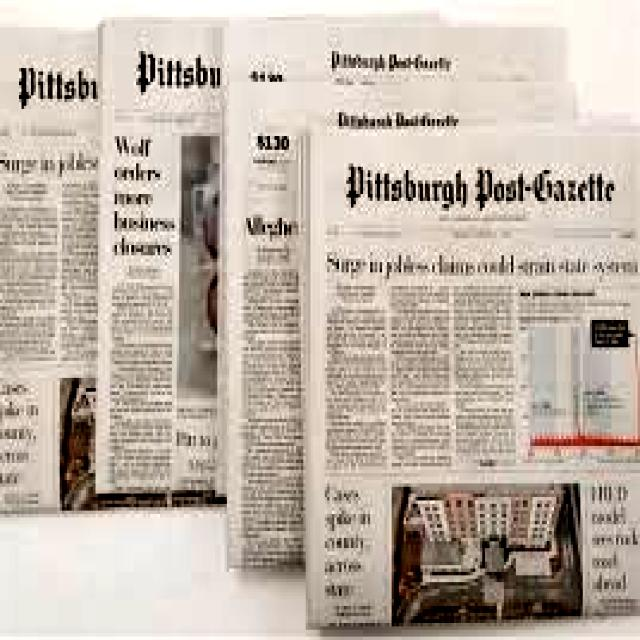Paper: (300, 118, 640, 622), (100, 16, 221, 506), (222, 17, 310, 570), (0, 24, 98, 509)
